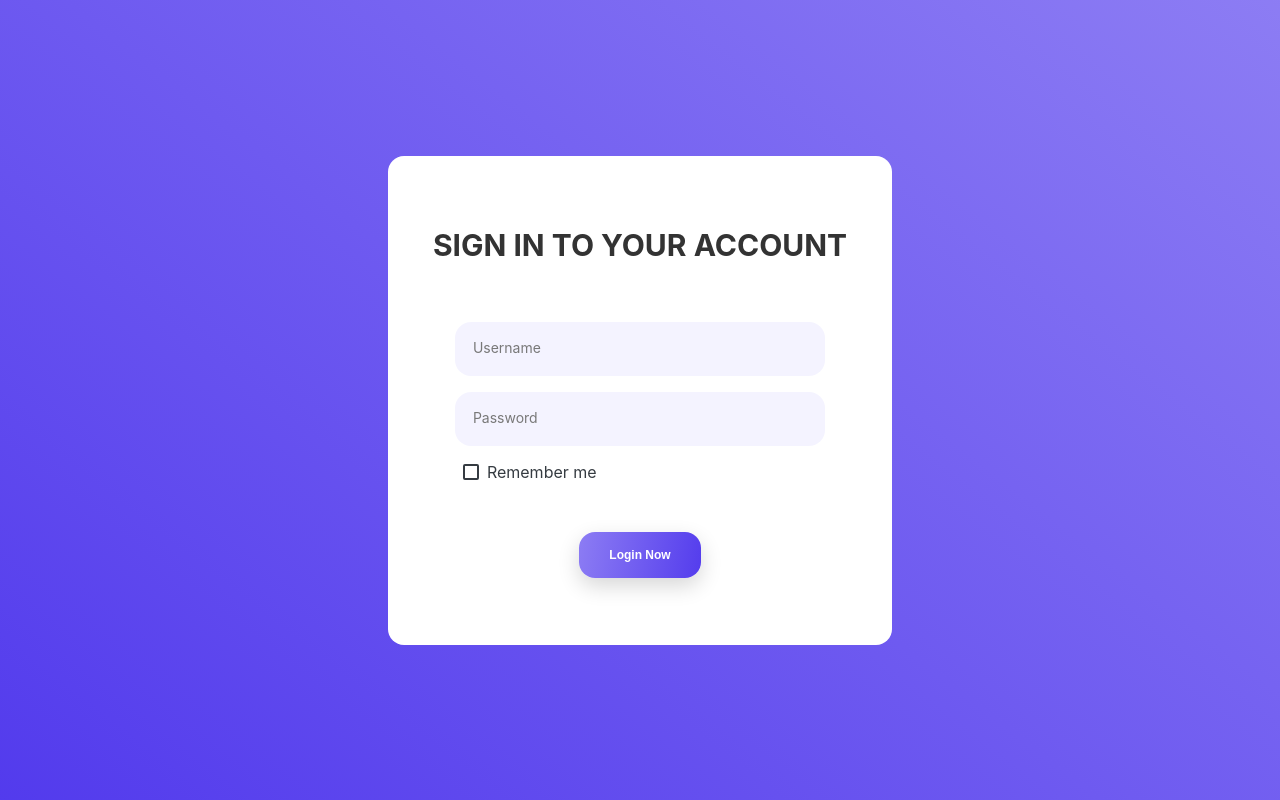
Test: App › should display username field errors
Note: Invalid email
Step 1. Type "not-an-email" into the field labelled "Username" → (640, 348), box [455, 322, 825, 376]
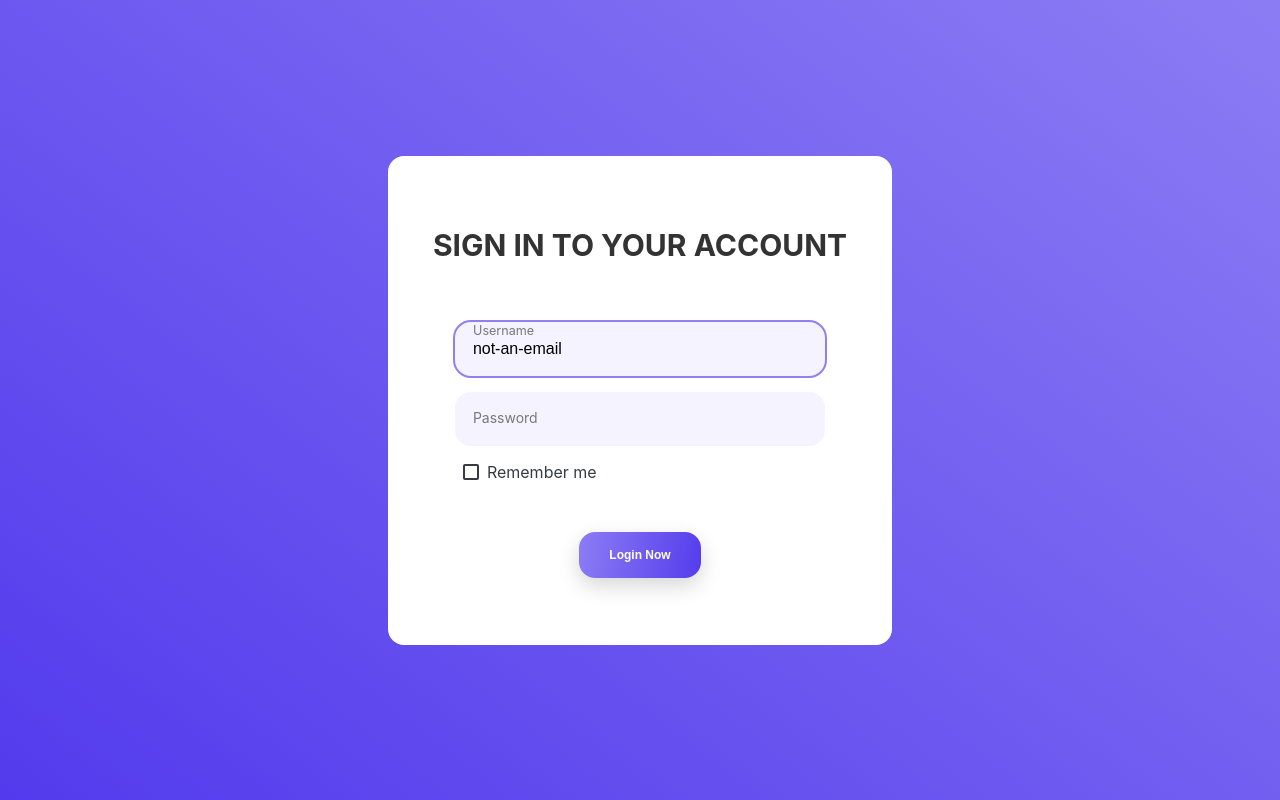
Step 2. Click the button → (640, 554), box [579, 532, 701, 578]
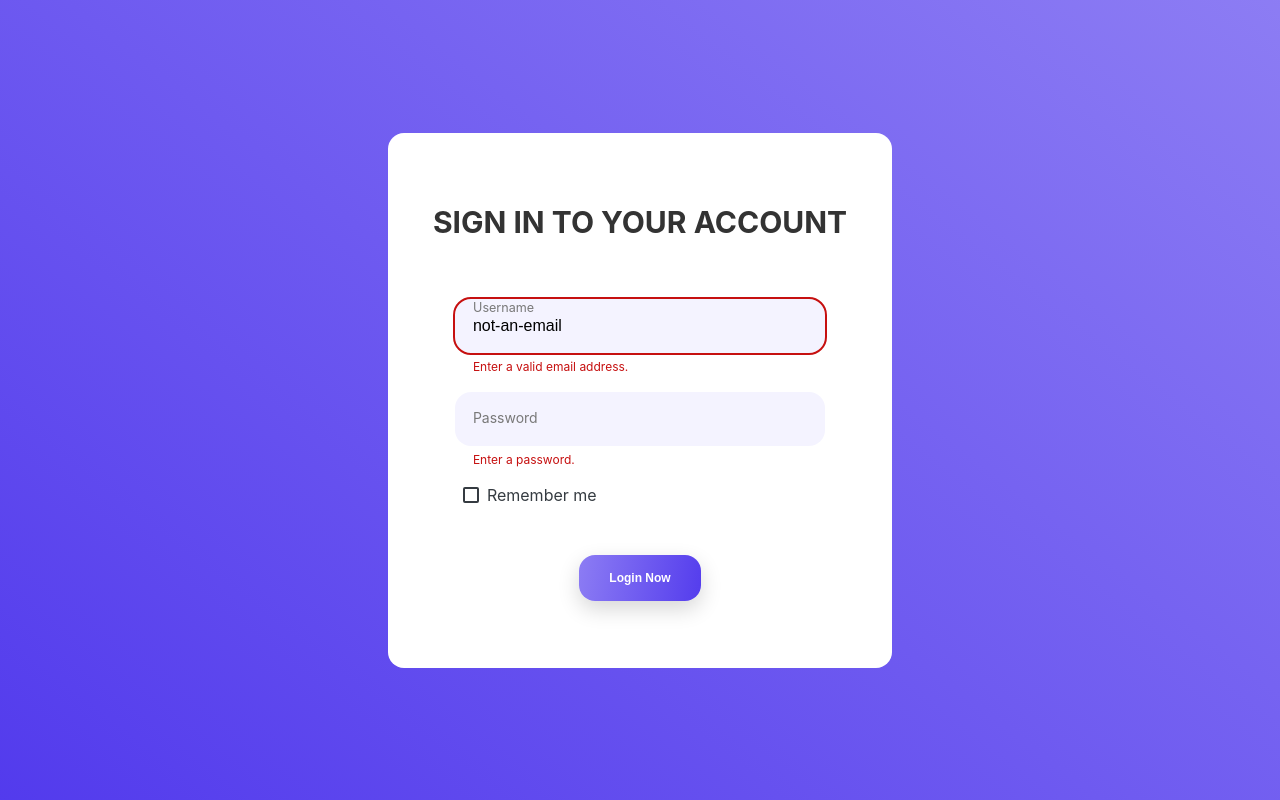
Expected: the message with id "username-error" shows "Enter a valid email address", [473, 358, 628, 374]
Step 3. Clear the field labelled "Username" → (640, 326), box [455, 298, 825, 352]
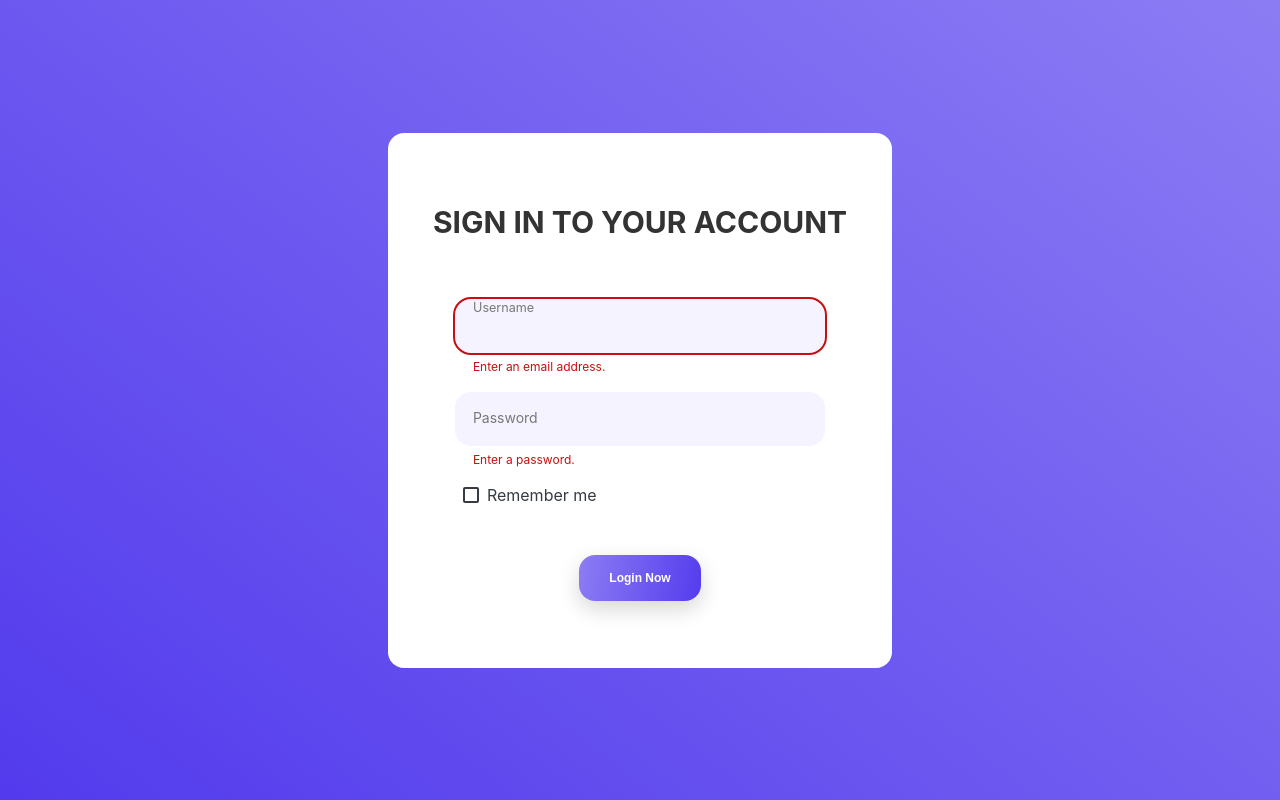
Expected: the message with id "username-error" shows "Enter an email address", [473, 358, 605, 374]
